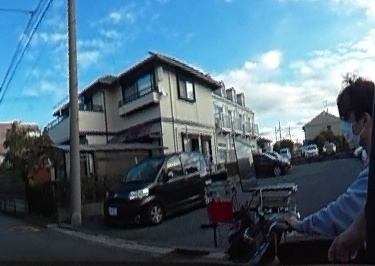person: (293, 78, 375, 266)
